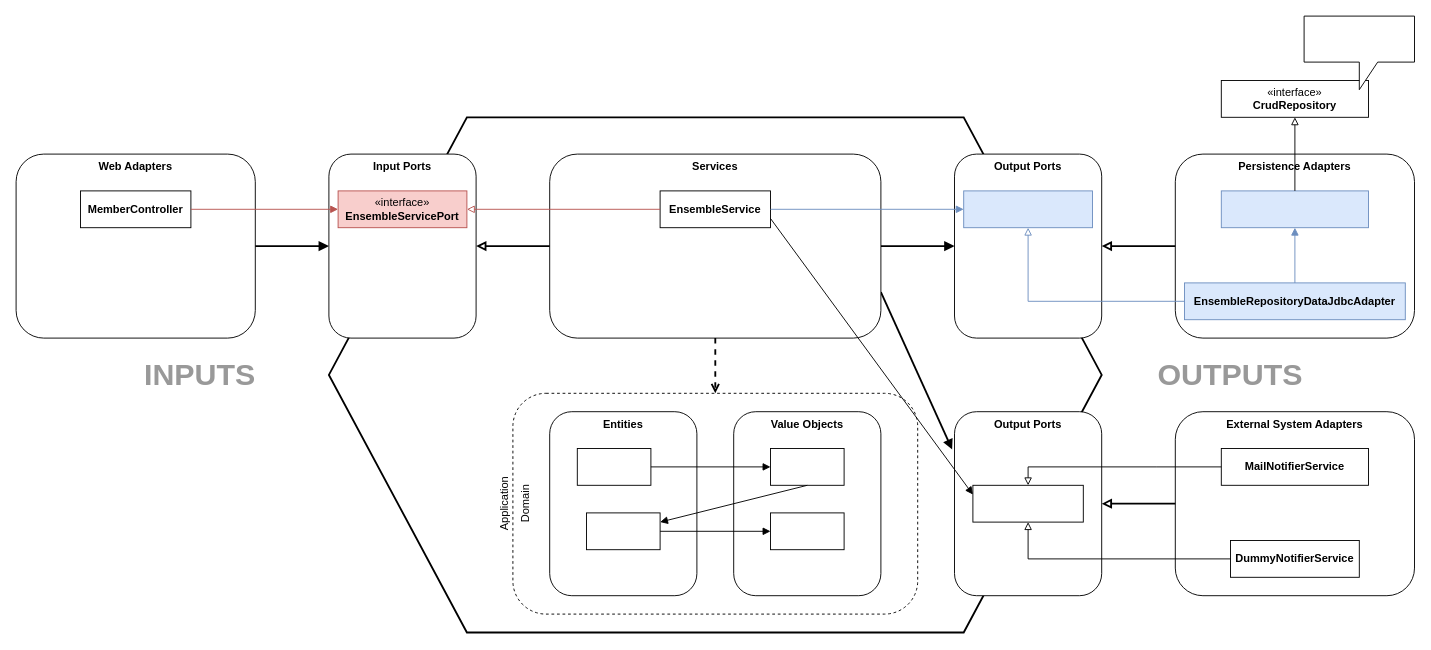
This 1431x650 diagram has some shape labels left out. Each missing label, with the centre of its shape:
Dit is de standaard CrudRepository van Spring Data: point 1358,52
Email: point 807,531
Ensemble: point 613,466
Member: point 623,531
Participant: point 807,466
«interface» EnsembleJdbcRepository: point 1294,209
«interface» EnsembleRepository: point 1027,209
«interface» NotifierService: point 1027,503
